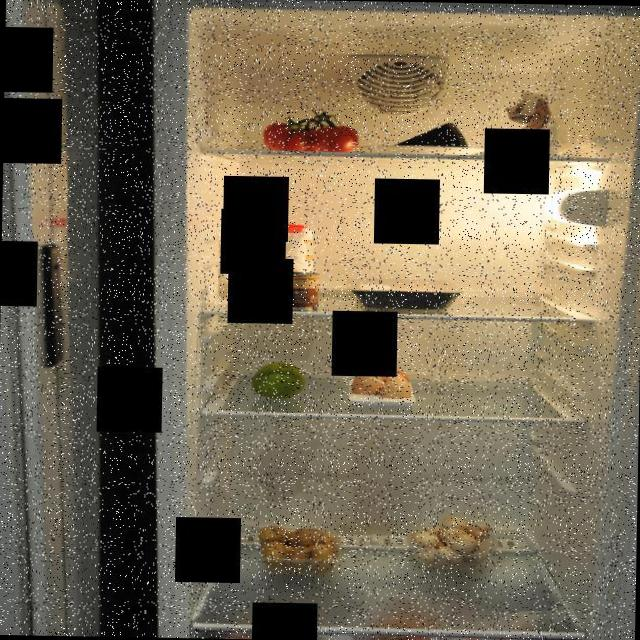Champiñones: (408, 514, 495, 568)
Huevos: (348, 366, 420, 400)
Manzana: (248, 359, 308, 402)
Patata: (252, 522, 340, 572)
Queso: (390, 123, 474, 150)
Tomate: (264, 116, 356, 156)
